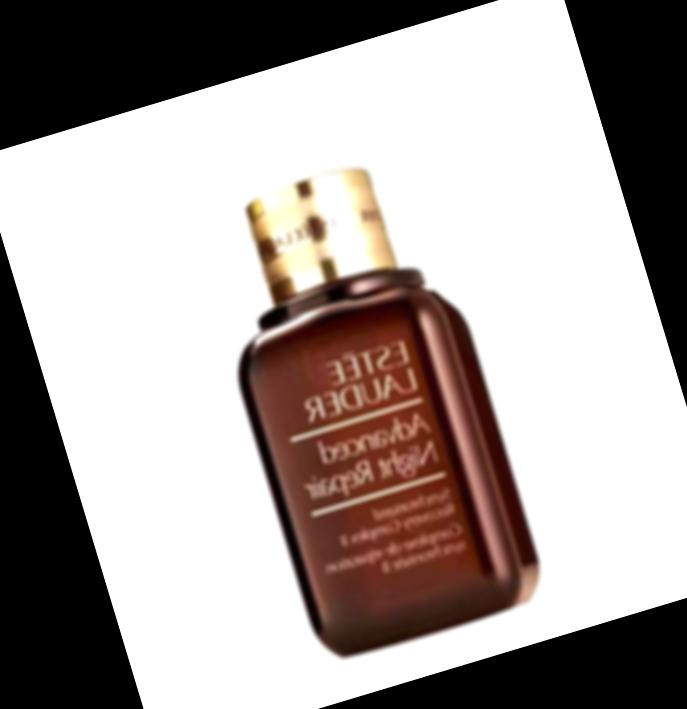cosmetic: (158, 56, 537, 658)
